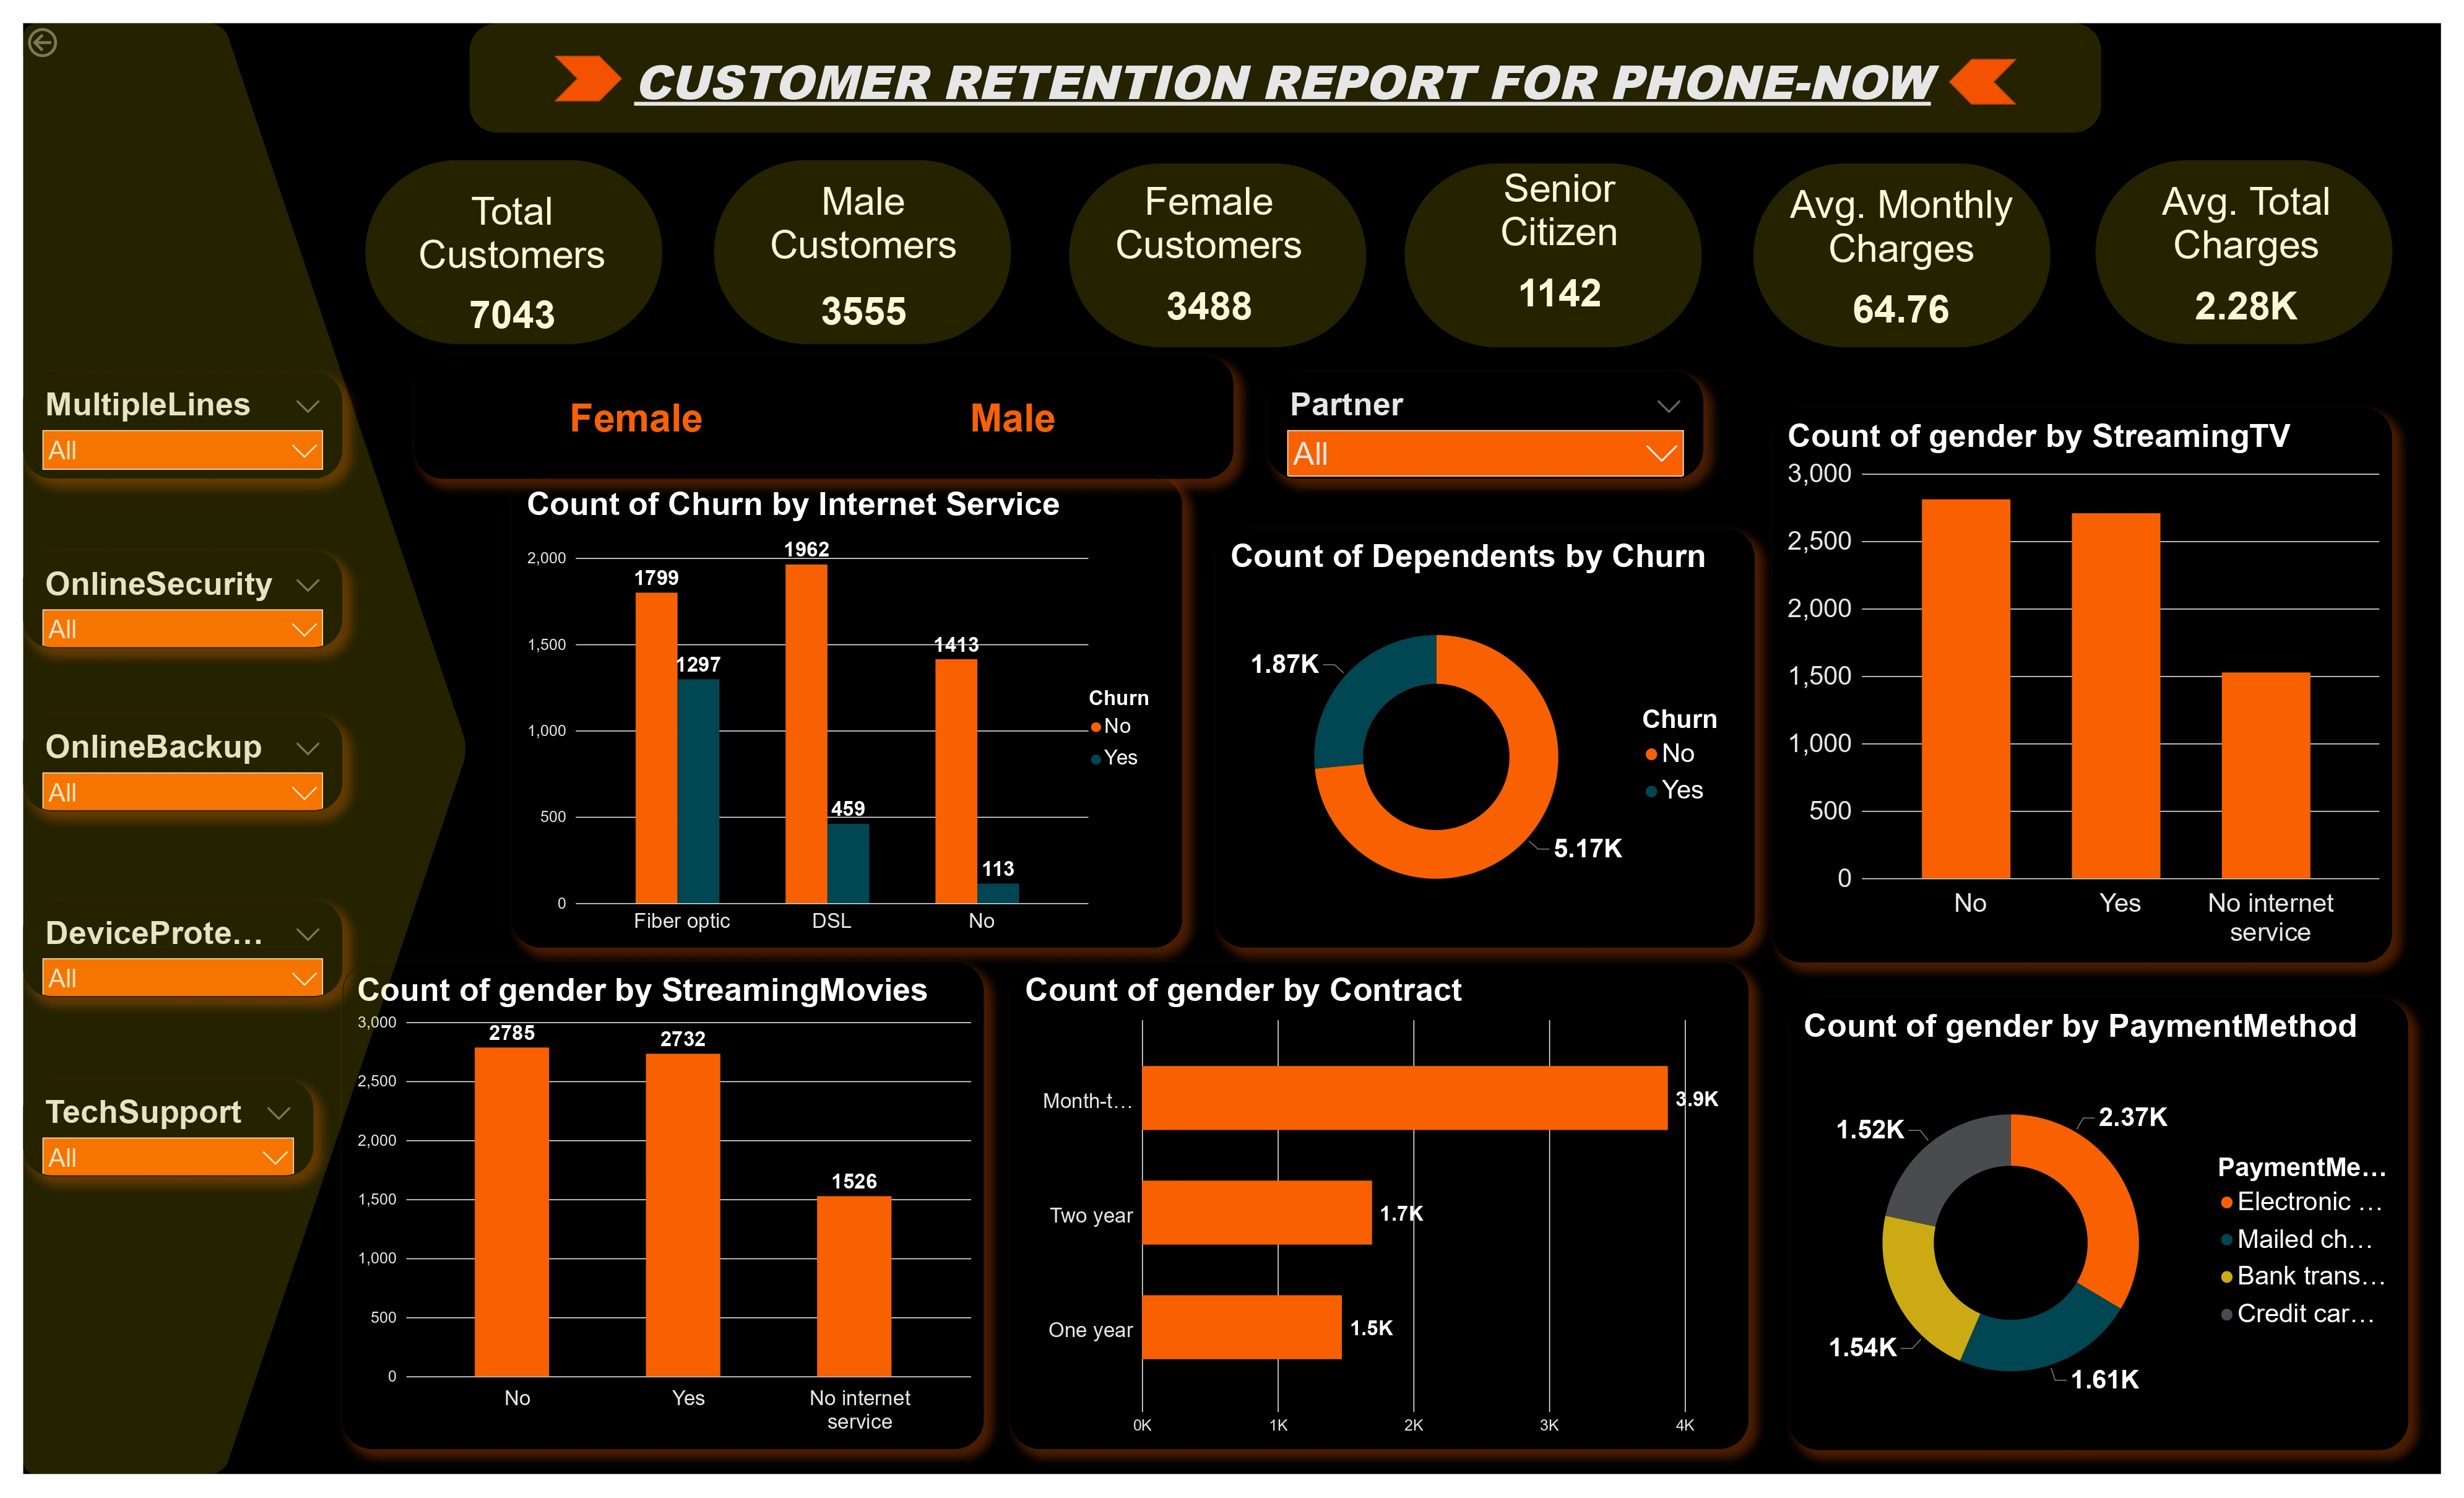

What the dashboard file says about the page in this screenshot:
{"tool":"powerbi","page":{"name":"Page 1","canvas":[2500,1500],"ordinal":0},"visuals":[{"type":"card","title":"Total Customers","fields":{"Values":["CountNonNull(01 Churn-Dataset.gender)"]},"box":[392.5,165,227.5,177.5],"z":0},{"type":"card","title":"Male Customers","fields":{"Values":["CountNonNull(01 Churn-Dataset.gender)"]},"box":[740.7,153.3,253.3,190],"z":1000},{"type":"card","title":"Female Customers","fields":{"Values":["CountNonNull(01 Churn-Dataset.gender)"]},"box":[1113.3,153.3,226.7,180],"z":2000},{"type":"card","title":"Senior Citizen","fields":{"Values":["Sum(01 Churn-Dataset.SeniorCitizen)"]},"box":[1470,142.2,236.7,180],"z":3000},{"type":"clusteredBarChart","fields":{"Category":["01 Churn-Dataset.Contract"],"Y":["CountNonNull(01 Churn-Dataset.gender)"]},"box":[1020,970,763.3,503.3],"z":4000},{"type":"clusteredColumnChart","title":"Count of Churn by Internet Service","fields":{"Category":["01 Churn-Dataset.InternetService"],"Series":["01 Churn-Dataset.Churn"],"Y":["CountNonNull(01 Churn-Dataset.Churn)"]},"box":[506.7,470,693.3,486.7],"z":5000},{"type":"donutChart","fields":{"Category":["01 Churn-Dataset.PaymentMethod"],"Y":["CountNonNull(01 Churn-Dataset.gender)"]},"box":[1826.7,1006.7,640,466.7],"z":6000},{"type":"card","title":"Avg. Monthly Charges","fields":{"Values":["Avg(01 Churn-Dataset.MonthlyCharges)"]},"box":[1809.5,158.4,263.3,180],"z":7000},{"type":"card","title":"Avg. Total Charges","fields":{"Values":["Avg(01 Churn-Dataset.TotalCharges)"]},"box":[2146.7,153.3,303.3,180],"z":8000},{"type":"slicer","fields":{"Values":["01 Churn-Dataset.MultipleLines"]},"box":[0,360,330,110],"z":9000},{"type":"donutChart","fields":{"Category":["01 Churn-Dataset.Churn"],"Y":["CountNonNull(01 Churn-Dataset.Dependents)"]},"box":[1233.3,523.3,556.7,433.3],"z":10000},{"type":"slicer","fields":{"Values":["01 Churn-Dataset.OnlineSecurity"]},"box":[0,546.7,330,100],"z":11000},{"type":"slicer","fields":{"Values":["01 Churn-Dataset.OnlineBackup"]},"box":[0,713.3,330,100],"z":12000},{"type":"slicer","fields":{"Values":["01 Churn-Dataset.DeviceProtection"]},"box":[0,906.7,330,100],"z":13000},{"type":"slicer","fields":{"Values":["01 Churn-Dataset.TechSupport"]},"box":[0,1090,300,100],"z":14000},{"type":"actionButton","box":[0,0,100,40],"z":15000},{"type":"columnChart","fields":{"Category":["01 Churn-Dataset.StreamingMovies"],"Y":["CountNonNull(01 Churn-Dataset.gender)"]},"box":[330,970,663.3,503.3],"z":16000},{"type":"clusteredColumnChart","fields":{"Y":["CountNonNull(01 Churn-Dataset.gender)"],"Category":["01 Churn-Dataset.StreamingTV"]},"box":[1810,396.7,640,573.3],"z":17000},{"type":"slicer","fields":{"Values":["01 Churn-Dataset.gender"]},"box":[403.3,343.3,846.7,126.7],"z":18000},{"type":"shape","box":[353.3,142.2,306.7,190],"z":19000},{"type":"shape","box":[714,142.2,306.7,190],"z":20000},{"type":"shape","box":[1080,143.3,306.7,190],"z":21000},{"type":"shape","box":[1430,143.3,306.7,190],"z":22000},{"type":"shape","box":[1790,143.3,306.7,190],"z":23000},{"type":"shape","box":[2143.3,140,306.7,190],"z":24000},{"type":"shape","box":[0,0,460,1500],"z":25000},{"type":"shape","box":[460,0,1686.7,113.3],"z":26000},{"type":"textbox","box":[626.7,20,1423.3,96.7],"z":27000},{"type":"slicer","fields":{"Values":["01 Churn-Dataset.Partner"]},"box":[1286.7,360,450,110],"z":28000},{"type":"shape","box":[550,33.3,70,46.7],"z":29000},{"type":"shape","box":[1990,36.7,70,46.7],"z":30000}]}

Visuals, with their boxes in screenshot pixels (x1, y1, x2, y2):
"Total Customers" card: {"left": 403, "top": 183, "right": 623, "bottom": 355}
"Male Customers" card: {"left": 740, "top": 171, "right": 985, "bottom": 355}
"Female Customers" card: {"left": 1100, "top": 171, "right": 1319, "bottom": 346}
"Senior Citizen" card: {"left": 1445, "top": 161, "right": 1674, "bottom": 335}
clusteredBarChart - 01 Churn-Dataset.Contract x CountNonNull(01 Churn-Dataset.gender): {"left": 1009, "top": 962, "right": 1748, "bottom": 1449}
"Count of Churn by Internet Service" clusteredColumnChart: {"left": 513, "top": 478, "right": 1183, "bottom": 949}
donutChart - 01 Churn-Dataset.PaymentMethod x CountNonNull(01 Churn-Dataset.gender): {"left": 1790, "top": 997, "right": 2408, "bottom": 1449}
"Avg. Monthly Charges" card: {"left": 1773, "top": 176, "right": 2028, "bottom": 351}
"Avg. Total Charges" card: {"left": 2099, "top": 171, "right": 2392, "bottom": 346}
slicer - 01 Churn-Dataset.MultipleLines: {"left": 23, "top": 371, "right": 342, "bottom": 478}
donutChart - 01 Churn-Dataset.Churn x CountNonNull(01 Churn-Dataset.Dependents): {"left": 1216, "top": 530, "right": 1754, "bottom": 949}
slicer - 01 Churn-Dataset.OnlineSecurity: {"left": 23, "top": 552, "right": 342, "bottom": 649}
slicer - 01 Churn-Dataset.OnlineBackup: {"left": 23, "top": 714, "right": 342, "bottom": 810}
slicer - 01 Churn-Dataset.DeviceProtection: {"left": 23, "top": 901, "right": 342, "bottom": 997}
slicer - 01 Churn-Dataset.TechSupport: {"left": 23, "top": 1078, "right": 313, "bottom": 1175}
actionButton: {"left": 23, "top": 24, "right": 120, "bottom": 62}
columnChart - 01 Churn-Dataset.StreamingMovies x CountNonNull(01 Churn-Dataset.gender): {"left": 342, "top": 962, "right": 983, "bottom": 1449}
clusteredColumnChart - CountNonNull(01 Churn-Dataset.gender) x 01 Churn-Dataset.StreamingTV: {"left": 1773, "top": 407, "right": 2392, "bottom": 962}
slicer - 01 Churn-Dataset.gender: {"left": 413, "top": 355, "right": 1232, "bottom": 478}
shape: {"left": 365, "top": 161, "right": 662, "bottom": 345}
shape: {"left": 714, "top": 161, "right": 1010, "bottom": 345}
shape: {"left": 1068, "top": 162, "right": 1364, "bottom": 346}
shape: {"left": 1406, "top": 162, "right": 1703, "bottom": 346}
shape: {"left": 1754, "top": 162, "right": 2051, "bottom": 346}
shape: {"left": 2096, "top": 158, "right": 2392, "bottom": 342}
shape: {"left": 23, "top": 24, "right": 468, "bottom": 1474}
shape: {"left": 468, "top": 24, "right": 2099, "bottom": 133}
textbox: {"left": 629, "top": 43, "right": 2005, "bottom": 136}
slicer - 01 Churn-Dataset.Partner: {"left": 1268, "top": 371, "right": 1703, "bottom": 478}
shape: {"left": 555, "top": 56, "right": 623, "bottom": 101}
shape: {"left": 1948, "top": 59, "right": 2015, "bottom": 104}
